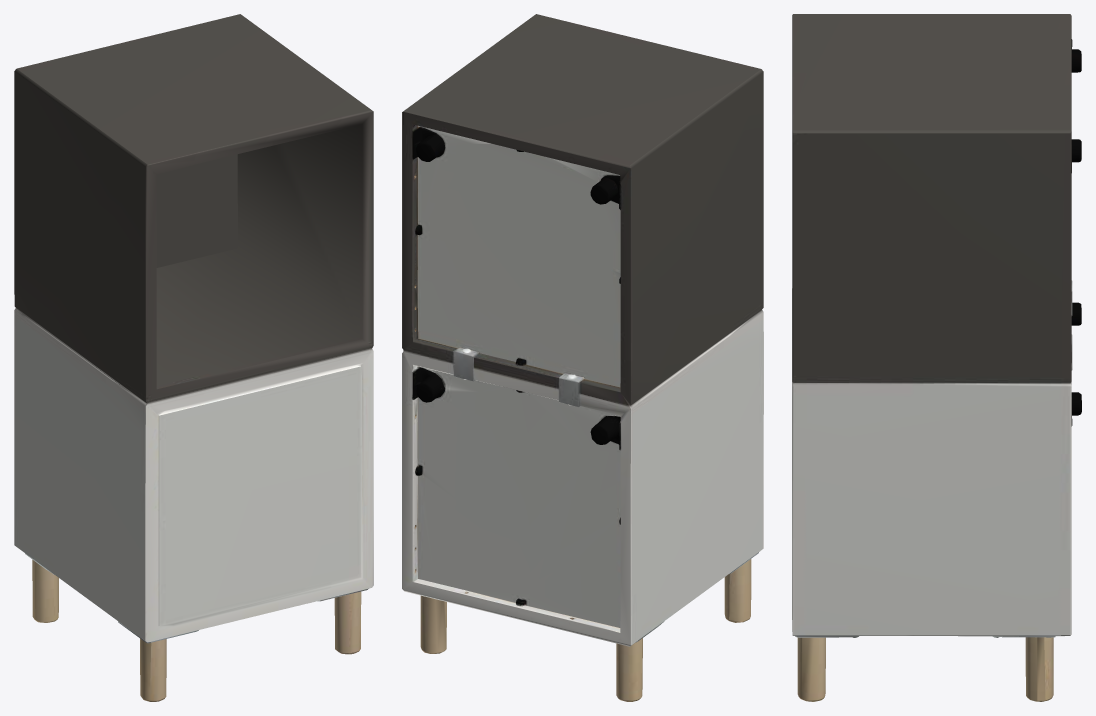
File: 34 - EKET Cabinet combination with legs - white dark greywood 35x35x80 cm.glb
The picture shows the model from 3 angles, left to right: view 1: azimuth 30°, elevation 25°; view 2: azimuth 150°, elevation 25°; view 3: azimuth 270°, elevation 25°; orthographic projection. The views are drawn at different scales.
Parts seen in each view (by area): view 1: ProcessedMeshNode; view 2: ProcessedMeshNode; view 3: ProcessedMeshNode.
Part boxes in pixels (x1,y1,x2,y2): ProcessedMeshNode: (14,14,373,701); ProcessedMeshNode: (402,14,763,701); ProcessedMeshNode: (792,14,1081,701).
Bounding box in the file's own units: 0.3502 × 0.797 × 0.3632.
1 material, 1 textured.
